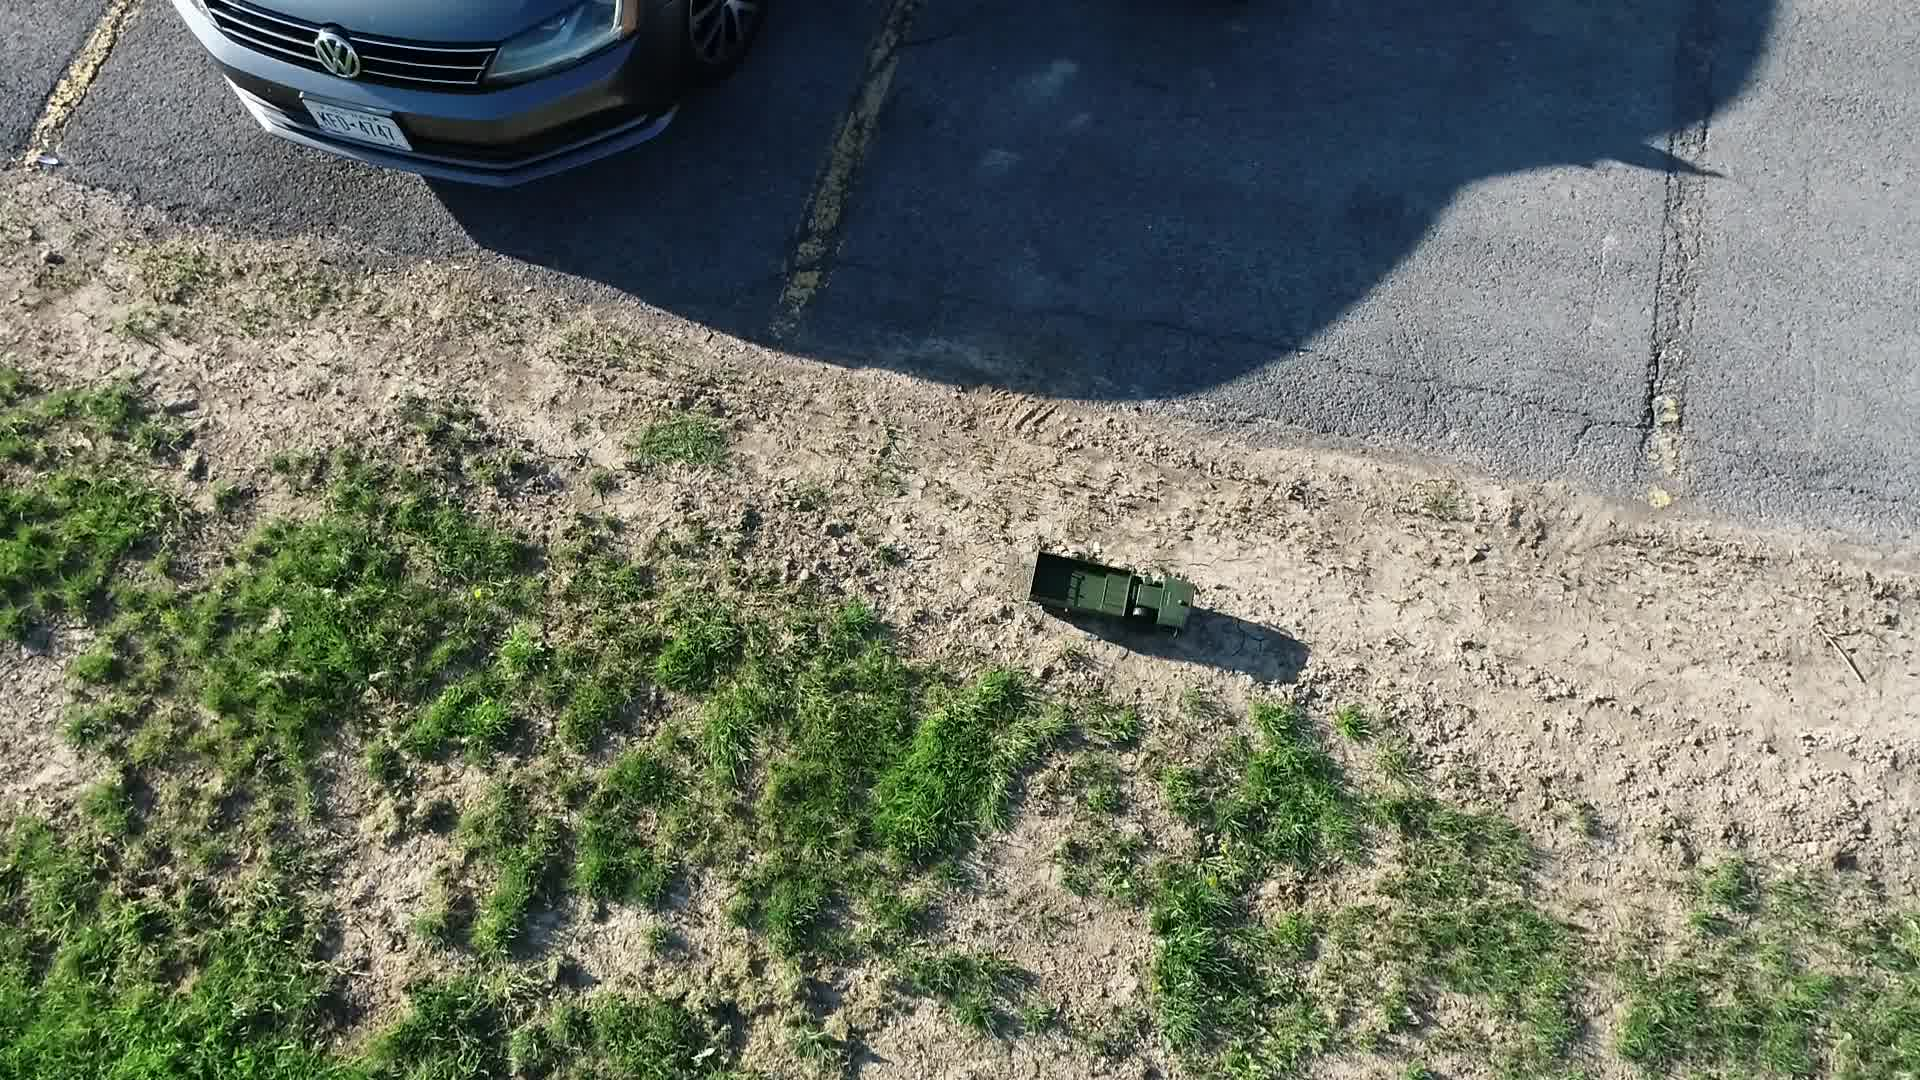transporter9: (1019, 541, 1207, 645)
